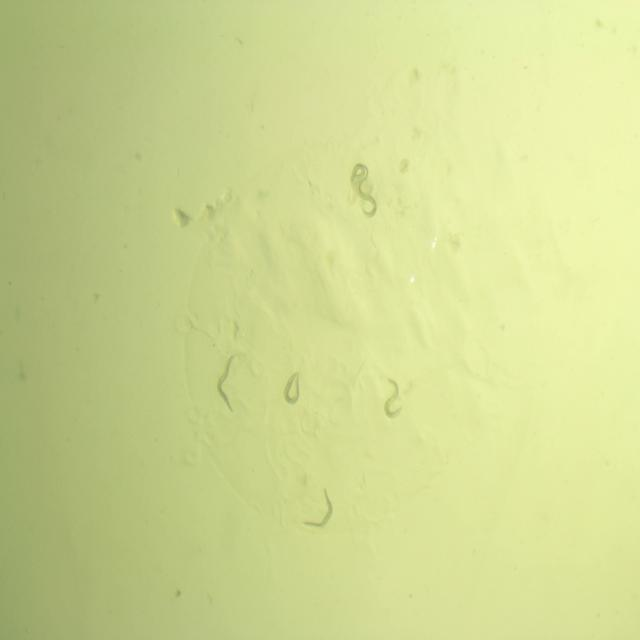worm: (300, 486, 337, 531), (214, 351, 239, 415), (356, 163, 379, 220), (381, 376, 405, 420), (281, 368, 304, 408), (347, 162, 366, 195)
